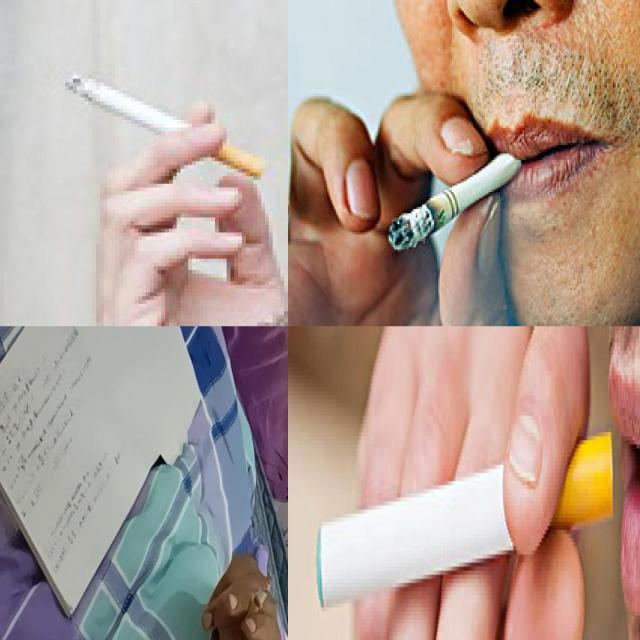smoking: (314, 423, 612, 608), (62, 71, 266, 180), (386, 146, 528, 256), (240, 576, 272, 635)
